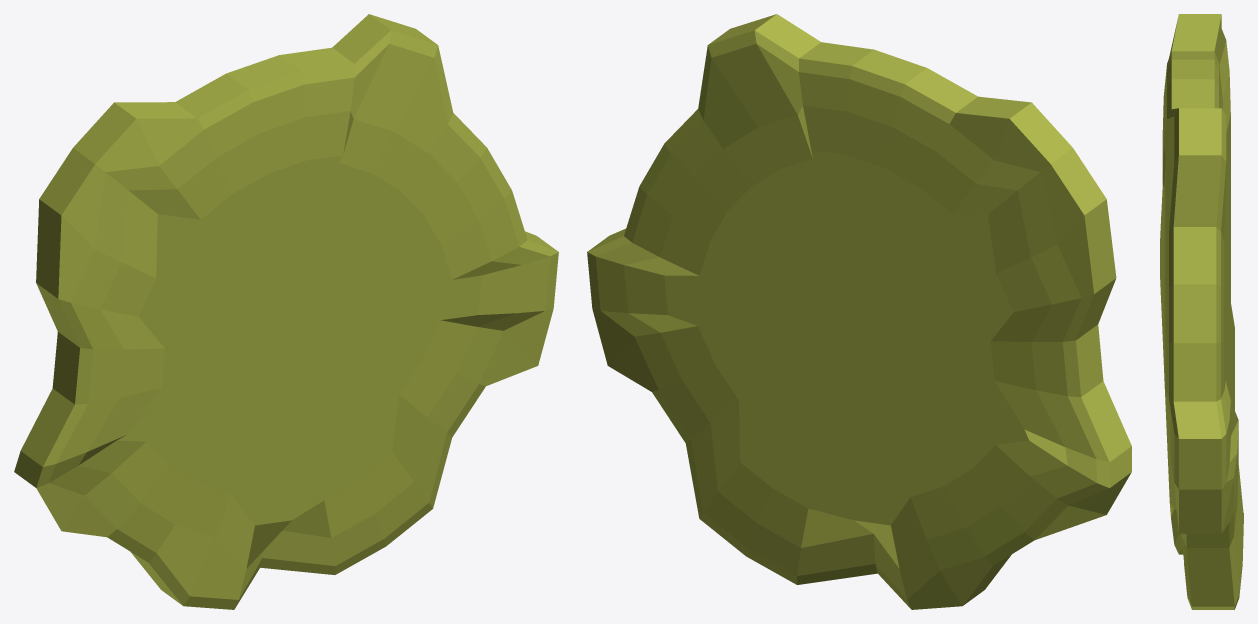
Rendered from lettuce_2.fbx.
3 views of the same model, side by side, from view 1: azimuth 30°, elevation 25°; view 2: azimuth 150°, elevation 25°; view 3: azimuth 270°, elevation 25° (orthographic). The views are drawn at different scales.
Visible parts, largest first — view 1: Cylinder.003; view 2: Cylinder.003; view 3: Cylinder.003.
Boxes of the visible parts, bbox=[...] form: Cylinder.003: bbox=[14, 14, 558, 609]; Cylinder.003: bbox=[587, 14, 1131, 609]; Cylinder.003: bbox=[1160, 14, 1243, 609].
Bounding box in the file's own units: 5032 × 4982 × 729.
